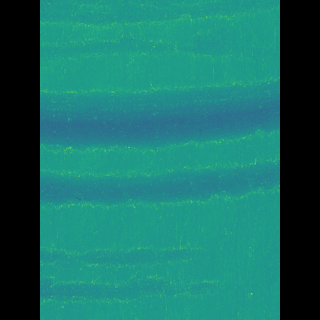Loch: (68, 81, 248, 150), (68, 0, 247, 66), (69, 233, 204, 311), (69, 160, 250, 210)
